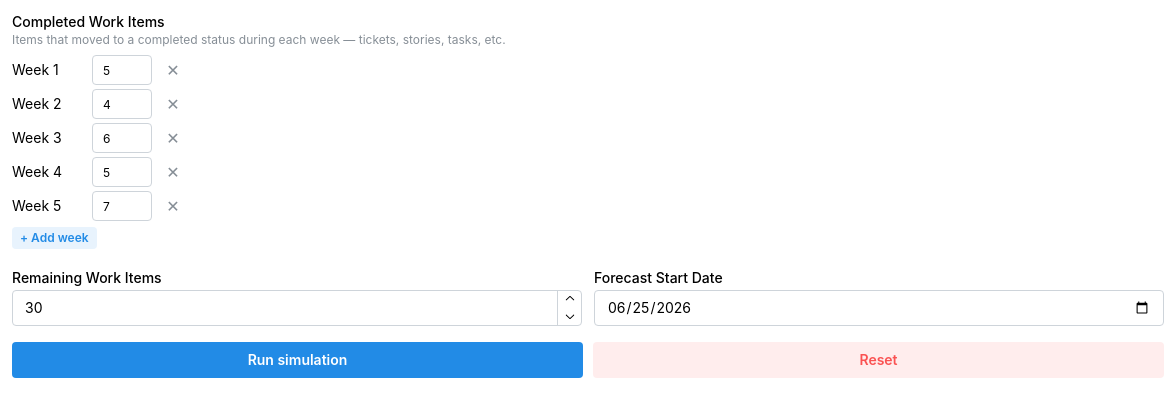
Test: SimulationForm › default sample data population › clears to blank (not sample data) after reset
This screenshot has width=1176, height=395.
Click the button "Reset".
click(878, 360)  # box 593,342 -> 1164,378
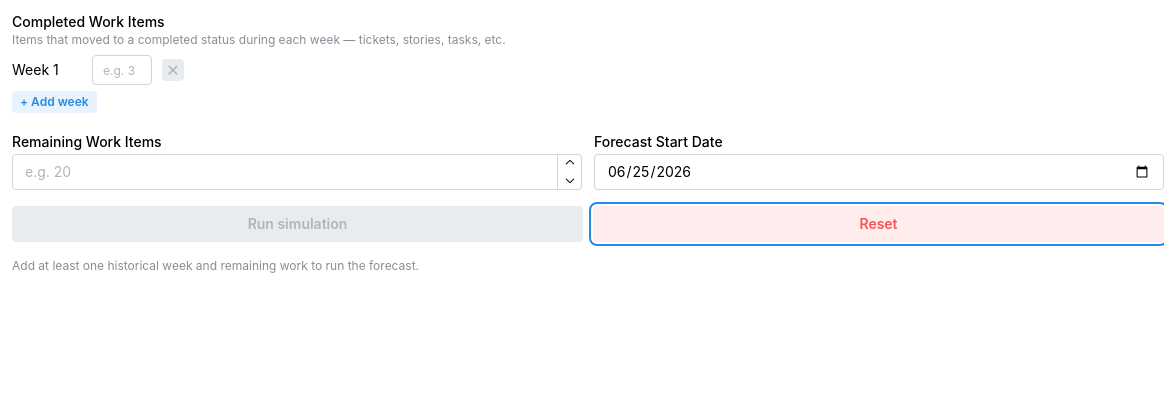
Expected: the field labelled "Week 1" is empty, 92,55 -> 152,85
Expected: the field labelled "Remaining Work Items" is empty, 12,154 -> 582,190
